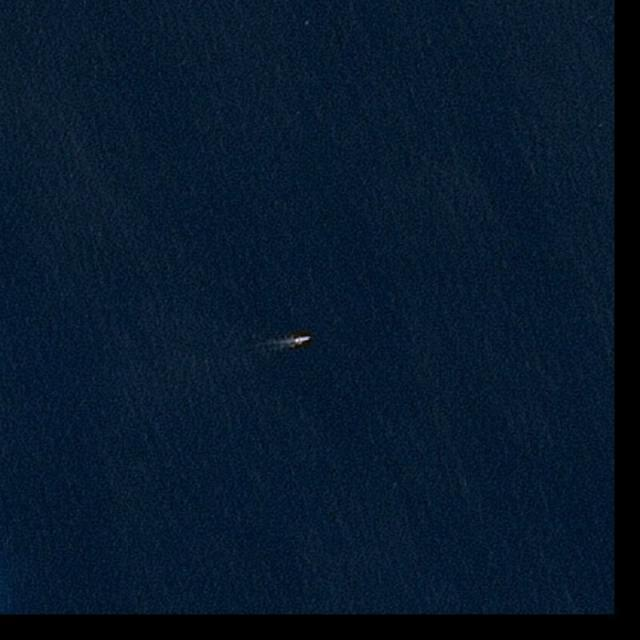ship: (294, 336, 311, 345)
